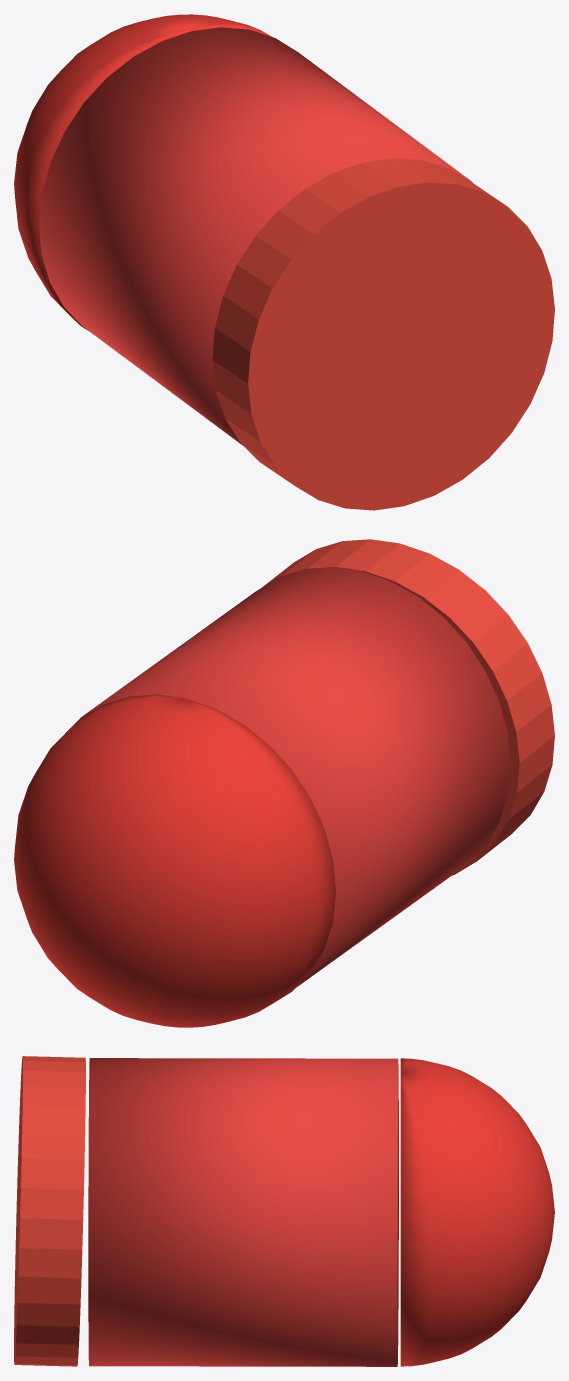
File: emissile.gltf
The picture shows the model from 3 angles, top to bottom: view 1: azimuth 30°, elevation 25°; view 2: azimuth 150°, elevation 25°; view 3: azimuth 270°, elevation 25°; orthographic projection. The views are drawn at different scales.
Parts seen in each view (by area): view 1: Cylinder.001, Cylinder, Sphere; view 2: Sphere, Cylinder, Cylinder.001; view 3: Cylinder, Sphere, Cylinder.001.
Boxes of the visible parts, left/top/right/bottom form: Cylinder.001: left=212, top=158, right=554, bottom=510; Cylinder: left=39, top=27, right=472, bottom=445; Sphere: left=14, top=14, right=271, bottom=330; Sphere: left=14, top=694, right=335, bottom=1027; Cylinder: left=74, top=567, right=510, bottom=987; Cylinder.001: left=263, top=539, right=554, bottom=875; Cylinder: left=88, top=1058, right=398, bottom=1366; Sphere: left=400, top=1058, right=554, bottom=1366; Cylinder.001: left=14, top=1056, right=85, bottom=1366.
Bounding box in the file's own units: 2.04 × 2.01 × 3.51.
